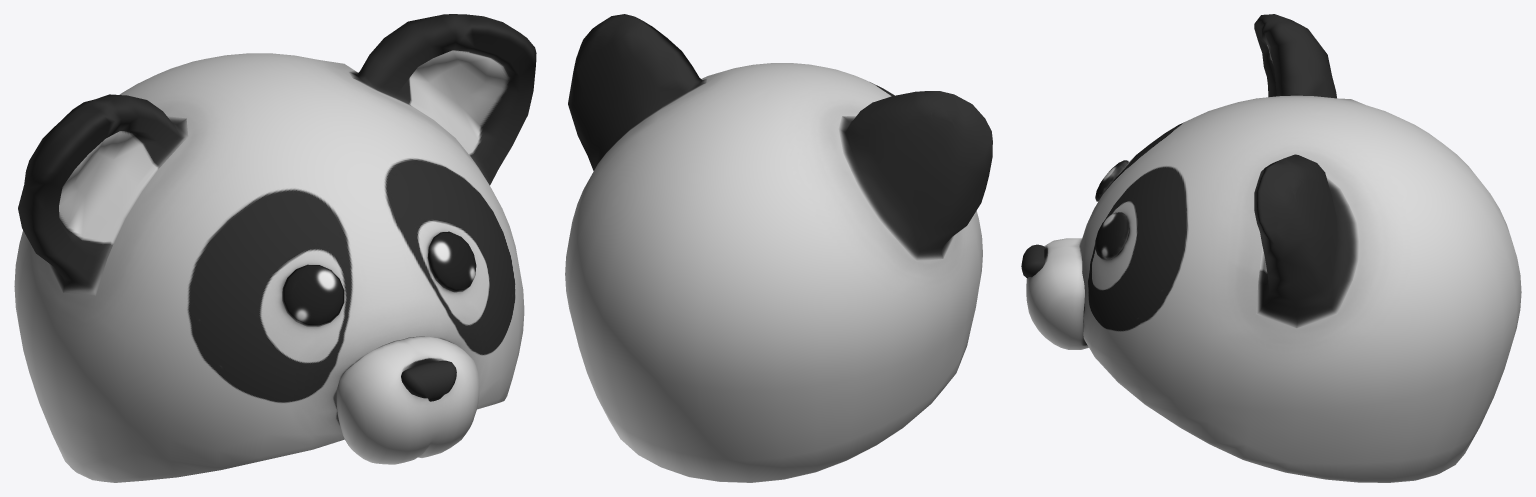
File: pandaHat.glb
3 views of the same model, side by side, from view 1: azimuth 30°, elevation 25°; view 2: azimuth 150°, elevation 25°; view 3: azimuth 270°, elevation 25° (orthographic). The views are drawn at different scales.
Visible parts, largest first — view 1: panda_toSend; view 2: panda_toSend; view 3: panda_toSend.
Part boxes in pixels (x1,y1,x2,y2): panda_toSend: (14, 14, 536, 482); panda_toSend: (565, 14, 992, 482); panda_toSend: (1021, 14, 1521, 482).
Size of the model in its own units: 0.3874 by 0.3139 by 0.4058.
1 material, 1 textured.
